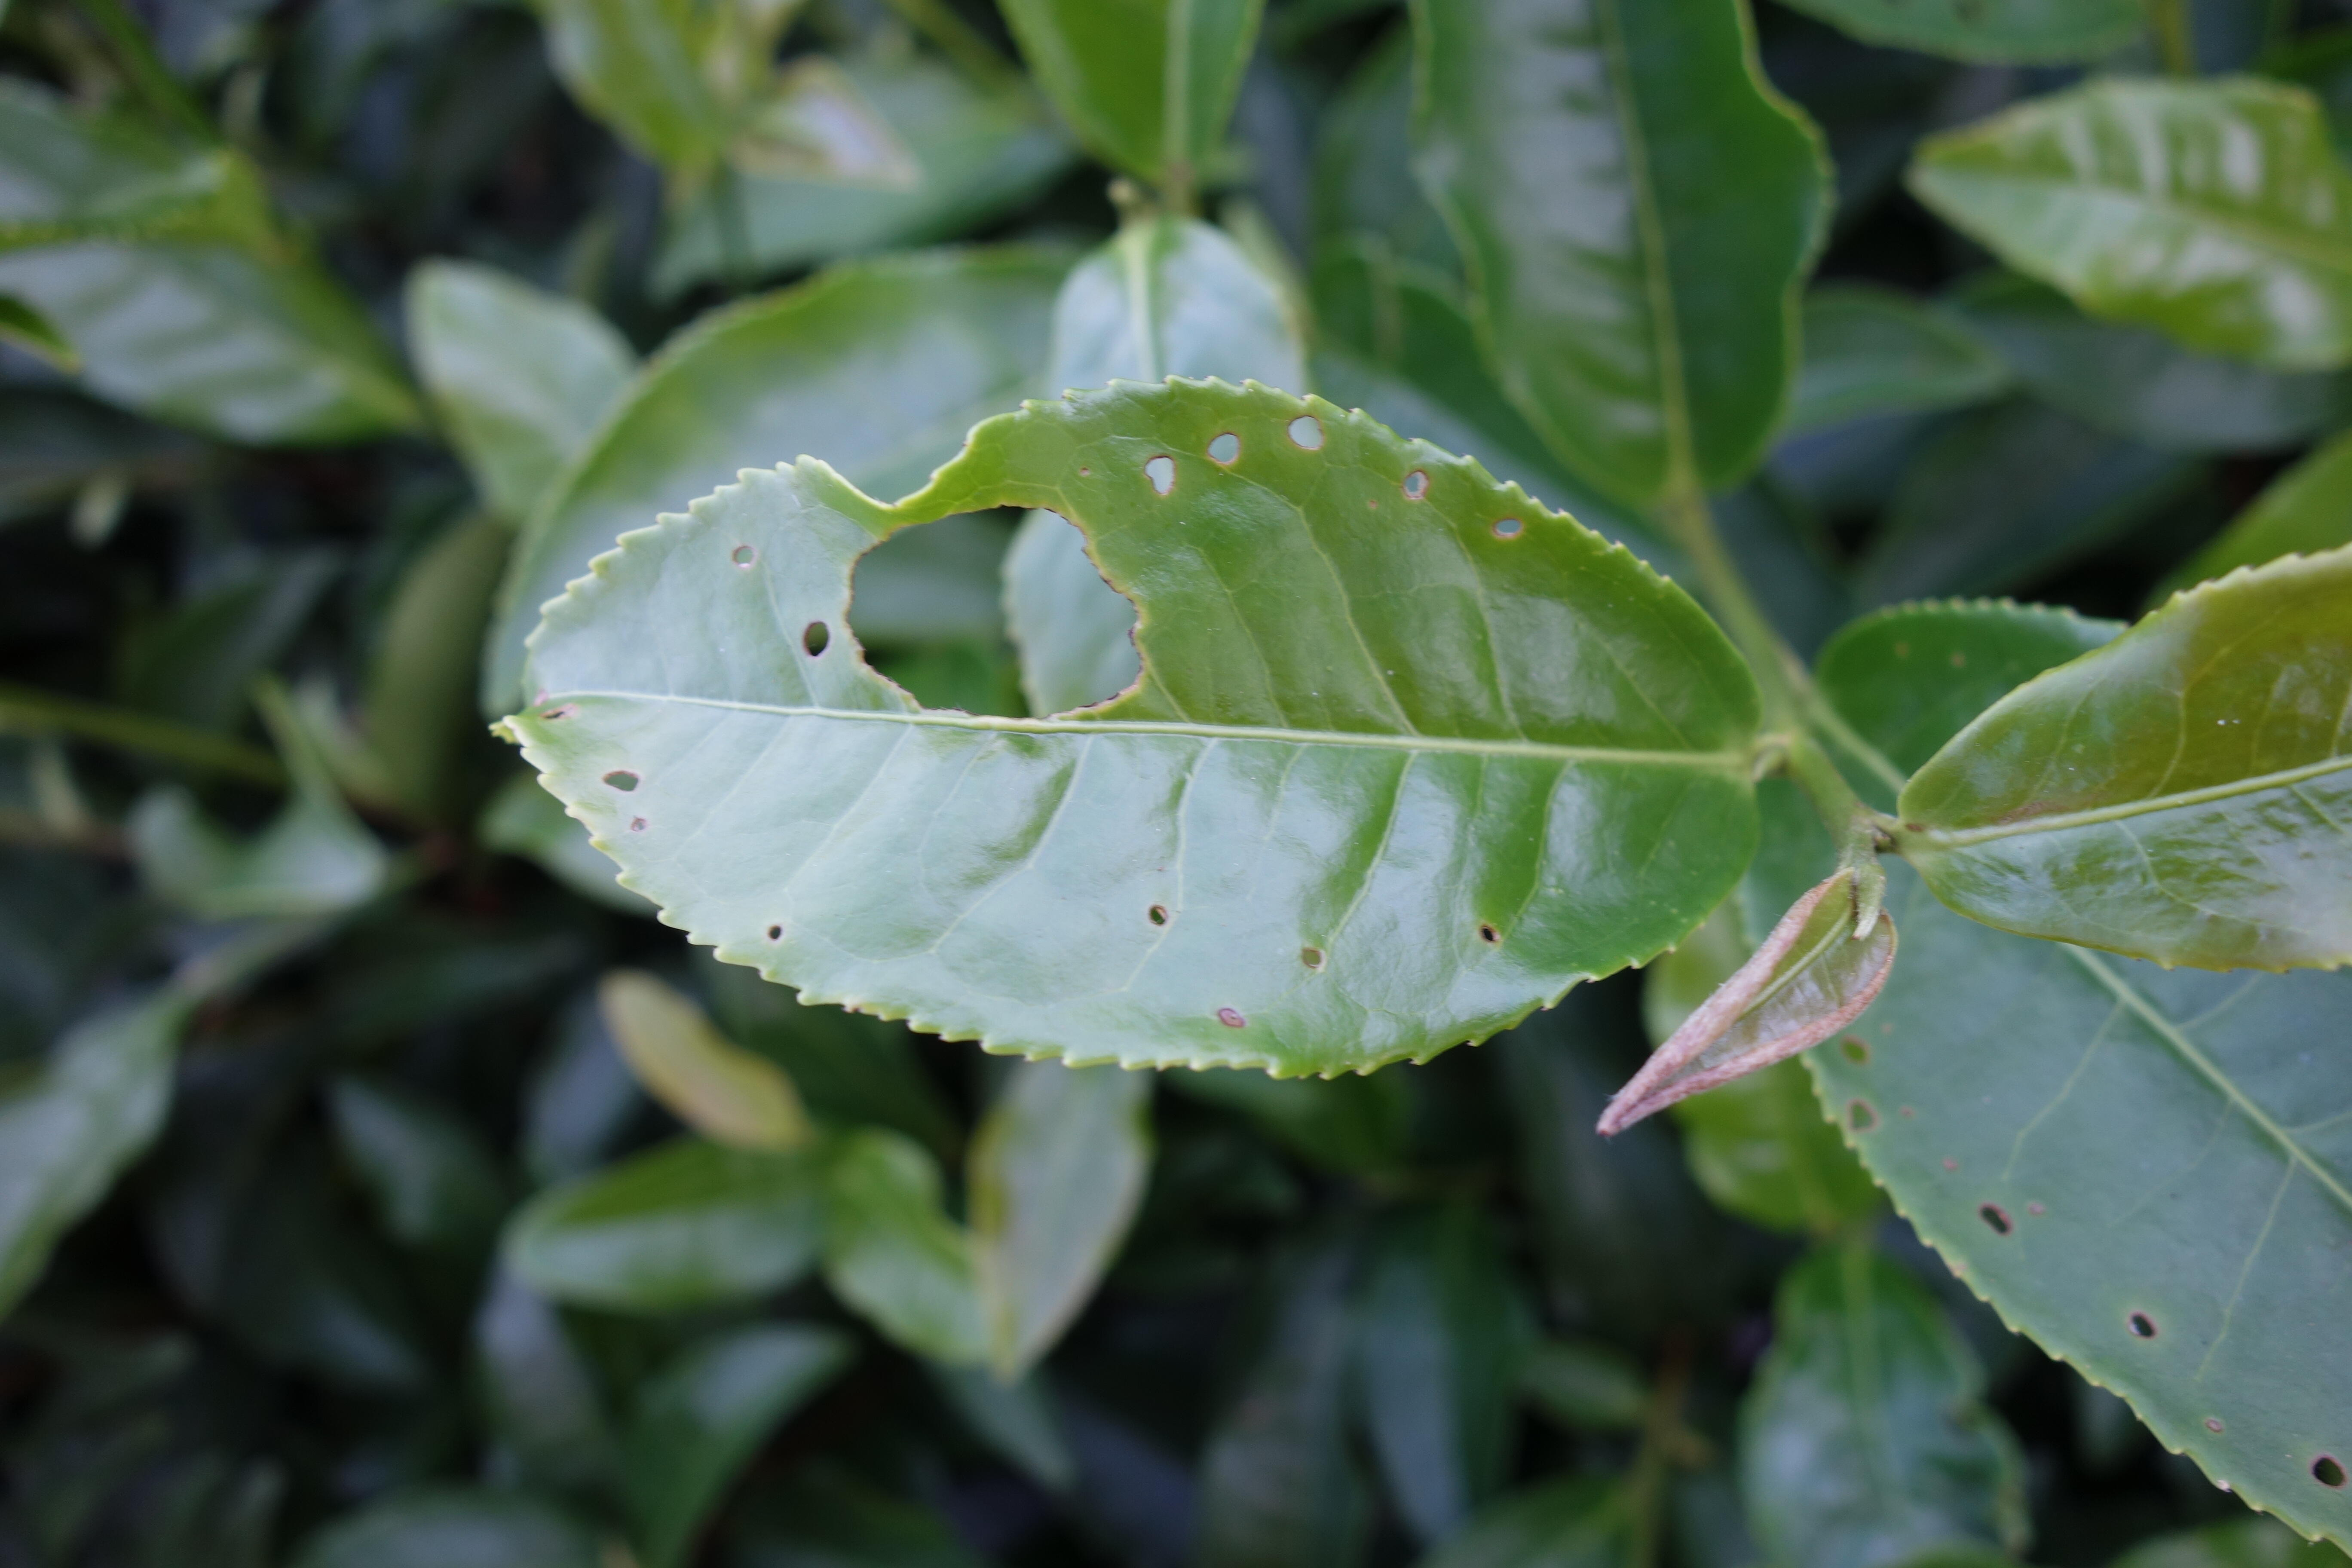chihuo_high: (479, 373, 1771, 1088)
tanju_low: (1902, 546, 2352, 975), (1596, 857, 1904, 1137)
